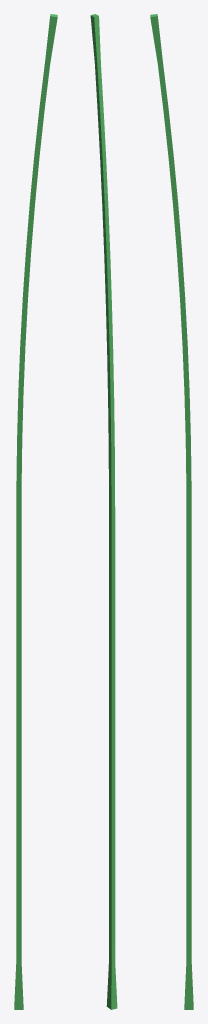
The model's file is jungle_slime_B.fbx.
The picture shows the model from 3 angles, left to right: view 1: azimuth 90°, elevation 25°; view 2: azimuth 210°, elevation 25°; view 3: azimuth 270°, elevation 25°; orthographic projection.
Visible parts, largest first — view 1: jungle_slime_B; view 2: jungle_slime_B; view 3: jungle_slime_B.
Part boxes in pixels (left/top/right/bottom): jungle_slime_B: left=14, top=14, right=57, bottom=1009; jungle_slime_B: left=90, top=14, right=117, bottom=1009; jungle_slime_B: left=150, top=14, right=193, bottom=1009.
Bounding box in the file's own units: 4.43 × 683 × 27.11.
